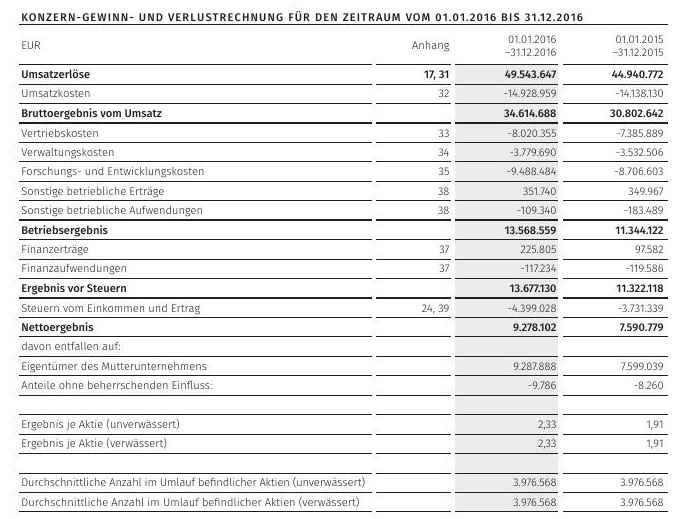table: (0, 0, 683, 519)
